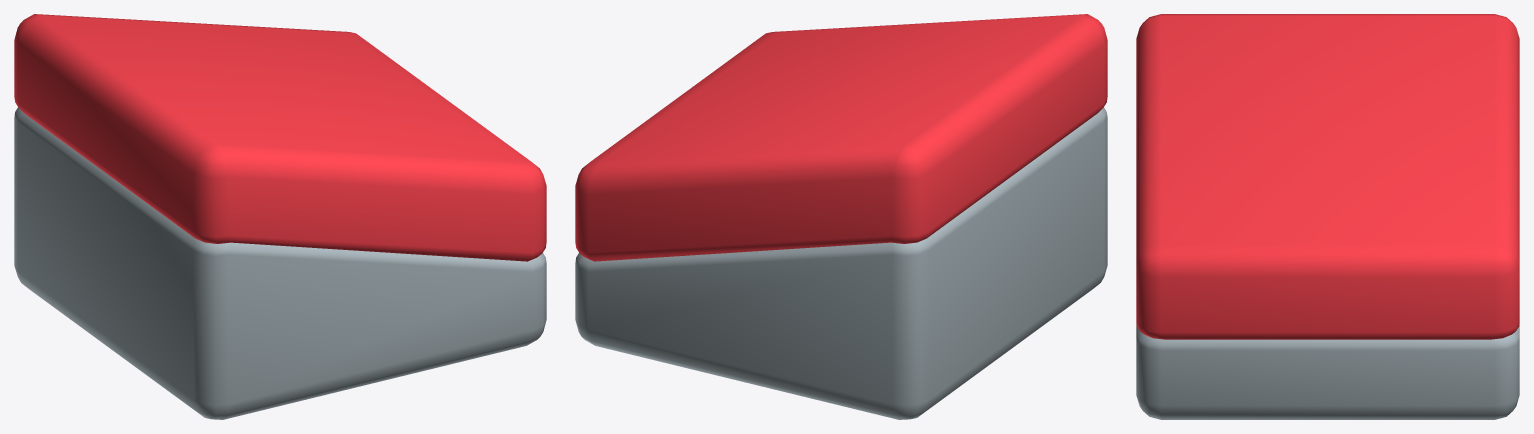
Rendered from tileSlopeLowMedium._teamRed.glb.
3 renders of one model, left to right at view 1: azimuth 30°, elevation 25°; view 2: azimuth 150°, elevation 25°; view 3: azimuth 270°, elevation 25°, orthographic. The views are drawn at different scales.
Parts seen in each view (by area): view 1: tileSlopeLowMedium._teamRed; view 2: tileSlopeLowMedium._teamRed; view 3: tileSlopeLowMedium._teamRed.
Part boxes in pixels (x1,y1,x2,y2): tileSlopeLowMedium._teamRed: [14, 14, 546, 419]; tileSlopeLowMedium._teamRed: [575, 14, 1107, 419]; tileSlopeLowMedium._teamRed: [1136, 14, 1519, 419].
Bounding box in the file's own units: 0.592 × 0.444 × 0.592.
